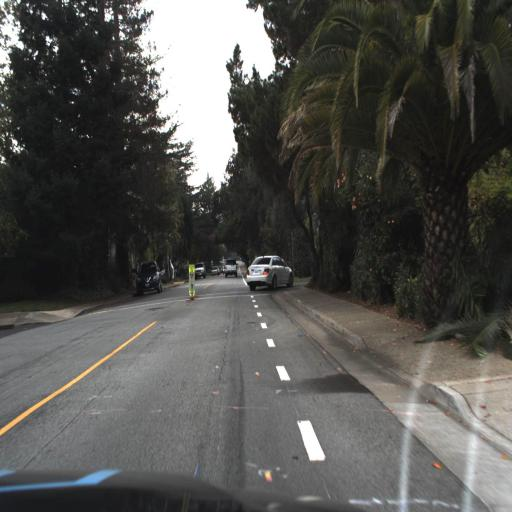car: (245, 252, 297, 294), (131, 257, 162, 299), (223, 255, 240, 281), (223, 254, 239, 281), (195, 259, 206, 282)
